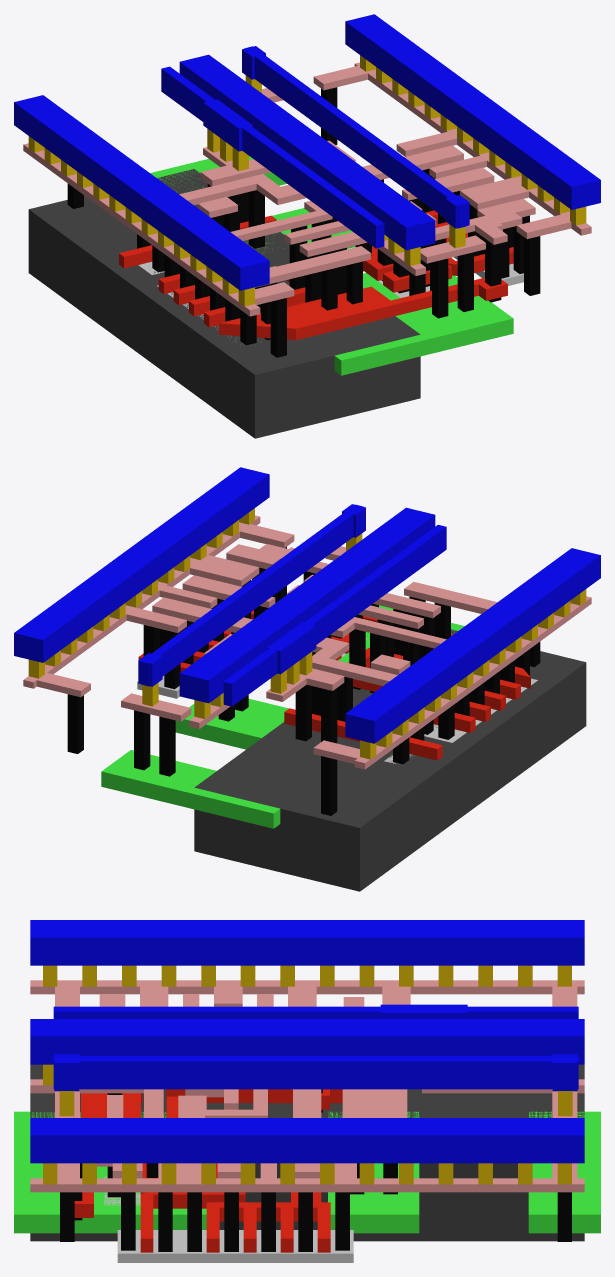
Rendered from sky130_fd_sc_hd__lpflow_lsbuf_lh_hl_isowell_tap_1.obj.
The picture shows the model from 3 angles, top to bottom: view 1: azimuth 30°, elevation 25°; view 2: azimuth 150°, elevation 25°; view 3: azimuth 270°, elevation 25°; orthographic projection. The views are drawn at different scales.
Parts seen in each view (by area): view 1: metal1, subs, li, licon, poly, nwell, mcon, diff; view 2: metal1, subs, li, licon, nwell, mcon, poly, diff; view 3: metal1, li, subs, nwell, mcon, licon, poly, diff.
Boxes of the visible parts, left/top/right/bottom form: metal1: left=14, top=14, right=600, bottom=290; subs: left=28, top=169, right=420, bottom=438; li: left=23, top=62, right=591, bottom=316; licon: left=67, top=87, right=540, bottom=357; poly: left=119, top=210, right=513, bottom=340; nwell: left=150, top=156, right=513, bottom=375; mcon: left=28, top=55, right=586, bottom=306; diff: left=138, top=256, right=523, bottom=338; metal1: left=14, top=467, right=600, bottom=743; subs: left=194, top=629, right=586, bottom=891; li: left=23, top=515, right=591, bottom=769; licon: left=67, top=547, right=540, bottom=815; nwell: left=101, top=605, right=464, bottom=828; mcon: left=28, top=508, right=586, bottom=759; poly: left=138, top=610, right=530, bottom=760; diff: left=137, top=676, right=537, bottom=764; metal1: left=30, top=920, right=584, bottom=1163; li: left=30, top=980, right=584, bottom=1192; subs: left=30, top=1064, right=584, bottom=1241; nwell: left=14, top=1111, right=600, bottom=1233; mcon: left=43, top=965, right=572, bottom=1184; licon: left=60, top=1089, right=571, bottom=1251; poly: left=74, top=1089, right=342, bottom=1252; diff: left=117, top=1230, right=353, bottom=1262.
Size of the model in its own units: 5.92 by 2.74 by 6.82.
